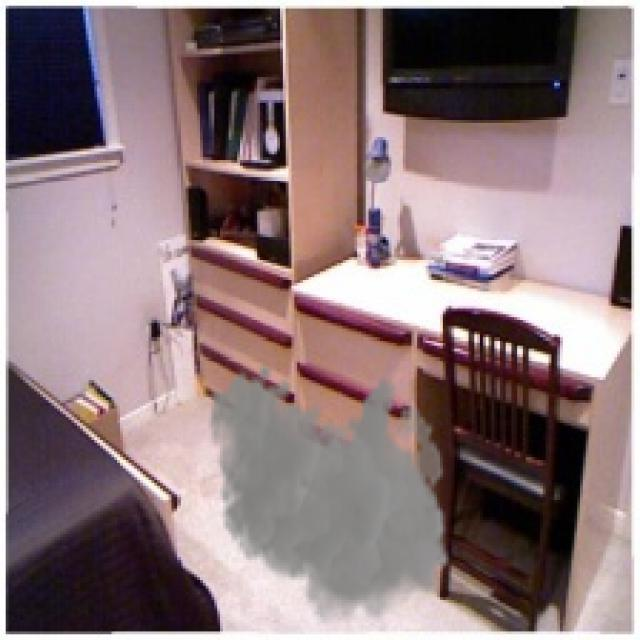Smoke: (208, 363, 452, 634)
